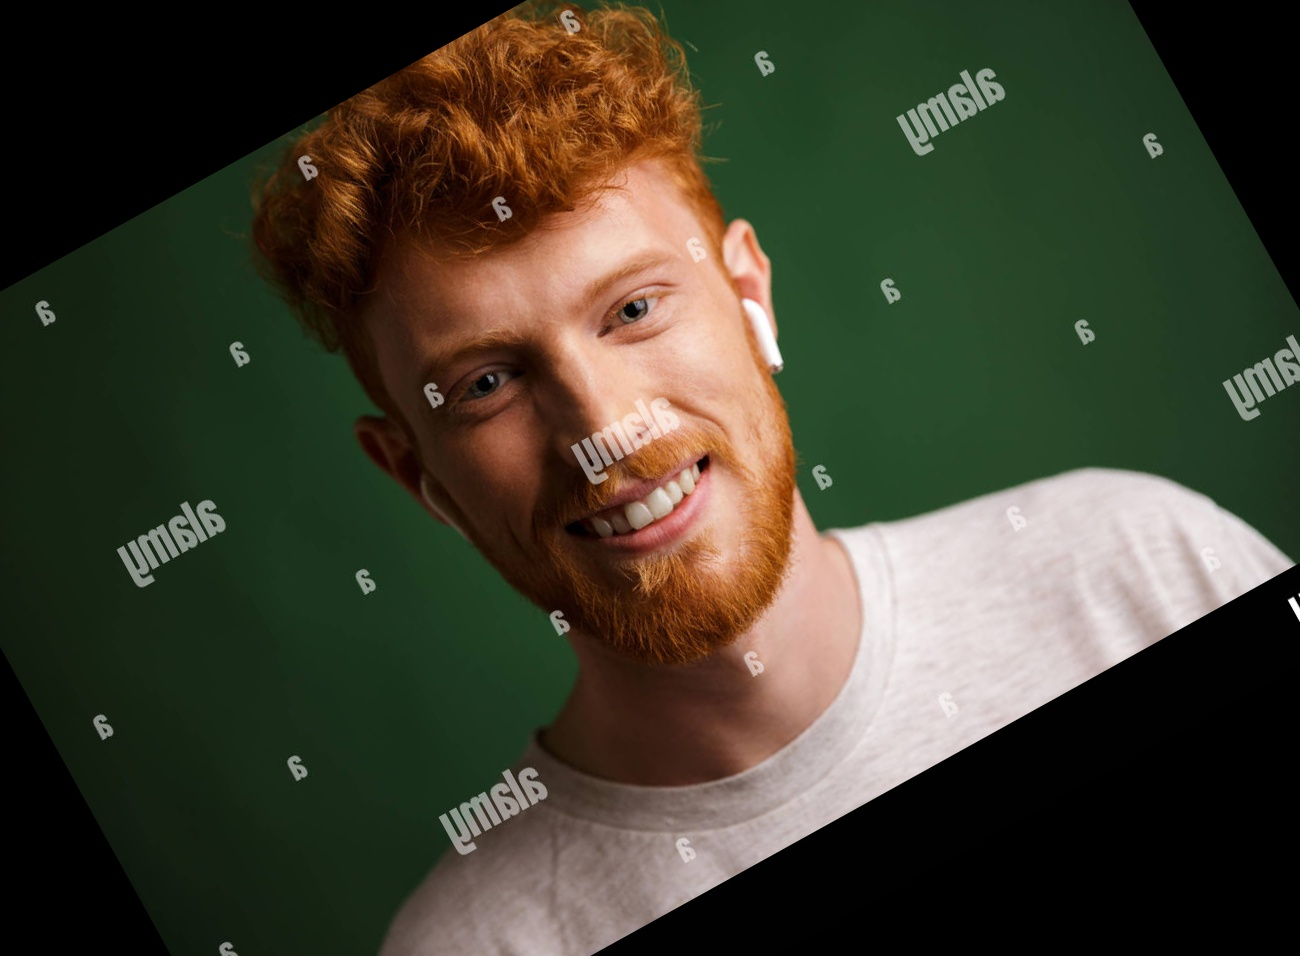earphone: (346, 391, 482, 568), (691, 216, 820, 380)
